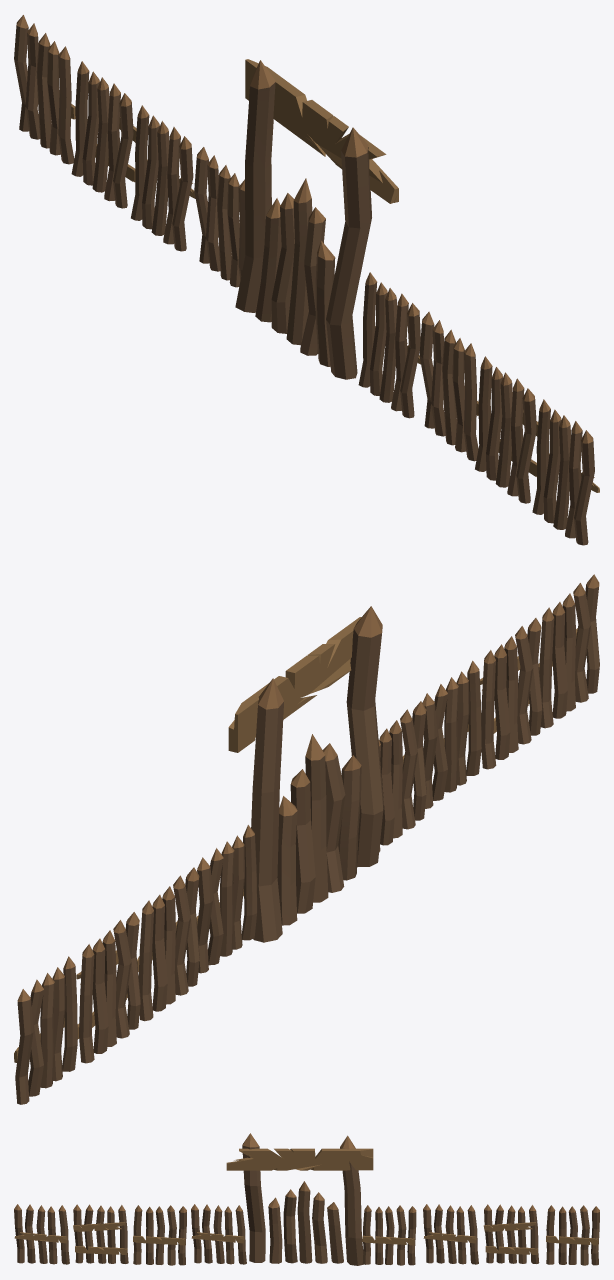
Rendered from portal_lvl1.fbx.
The picture shows the model from 3 angles, top to bottom: view 1: azimuth 30°, elevation 25°; view 2: azimuth 150°, elevation 25°; view 3: azimuth 270°, elevation 25°; orthographic projection. The views are drawn at different scales.
Parts seen in each view (by area): view 1: portal_lvl1, gate_lvl1; view 2: portal_lvl1, gate_lvl1; view 3: portal_lvl1, gate_lvl1.
Boxes of the visible parts, x1,y1,x2,y2 form: portal_lvl1: [14, 15, 599, 545]; gate_lvl1: [255, 178, 335, 366]; portal_lvl1: [14, 574, 599, 1104]; gate_lvl1: [277, 734, 361, 925]; portal_lvl1: [14, 1133, 599, 1265]; gate_lvl1: [268, 1181, 343, 1263].
Bounding box in the file's own units: 0.8888 × 5.4 × 22.07.
